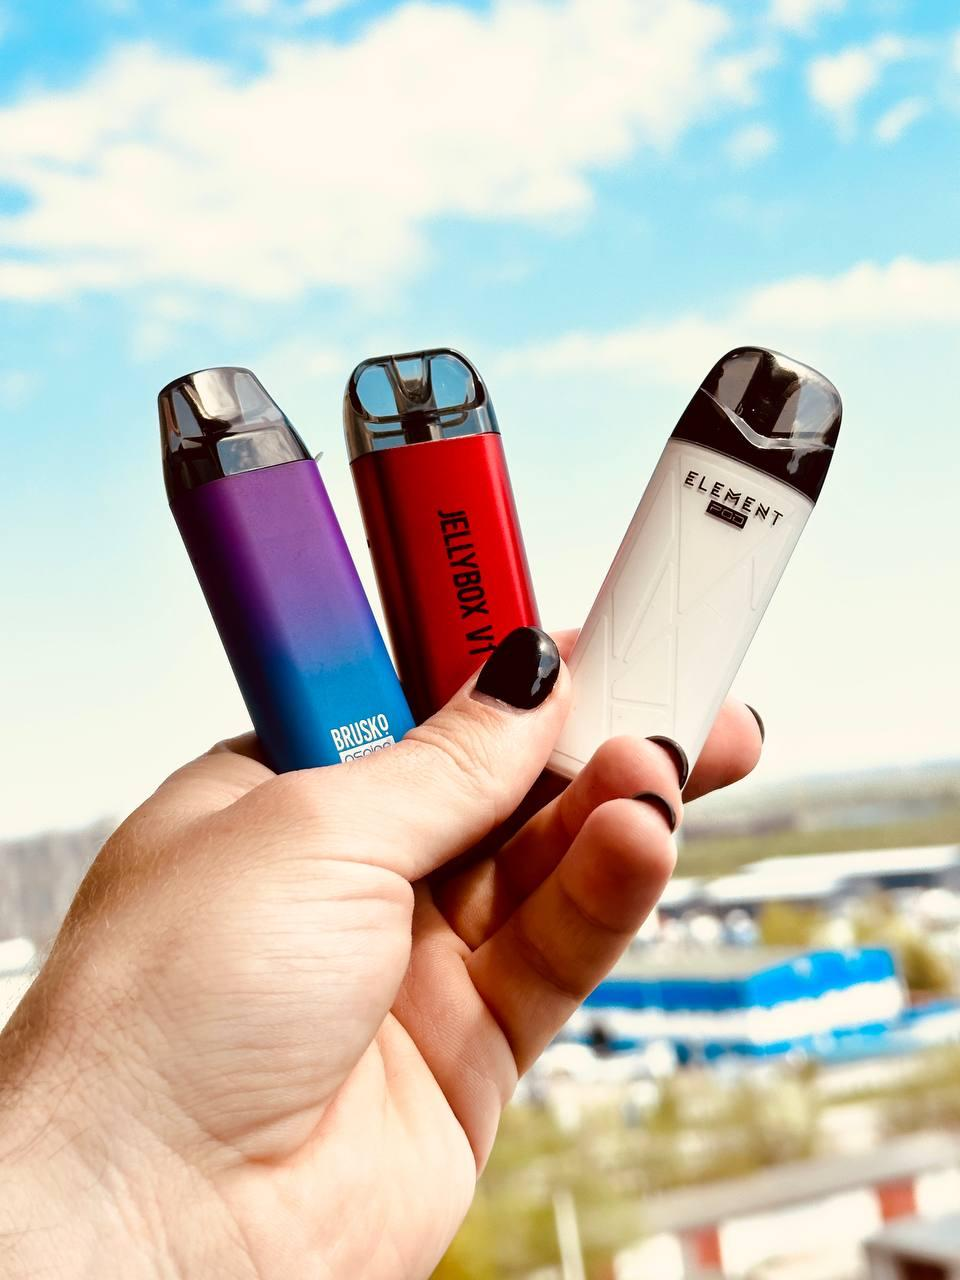Vape: (544, 346, 841, 780), (159, 366, 411, 771), (344, 349, 537, 721)
